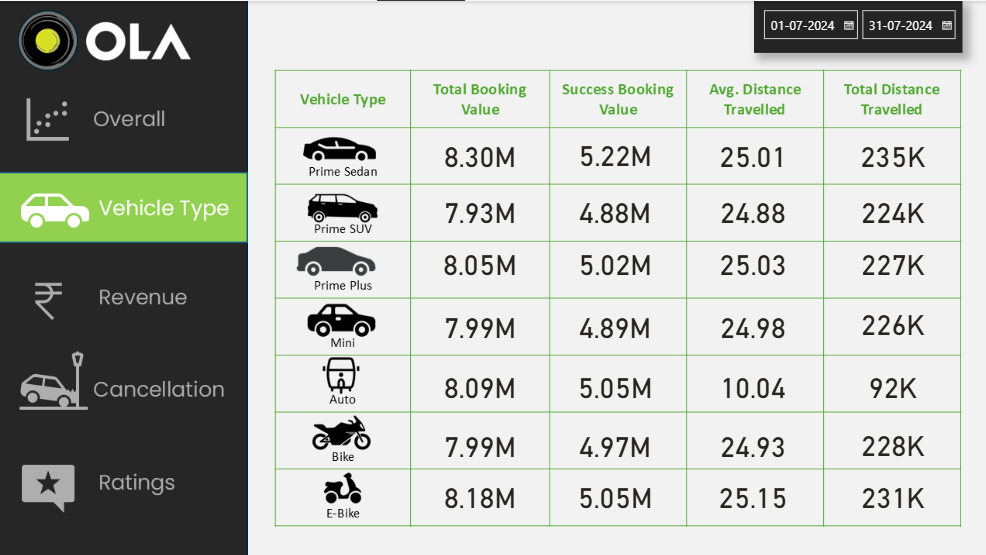

The page's visual inventory and layout, read from the dashboard file:
{"tool":"powerbi","page":{"name":"Vehicle Type","canvas":[1280,720],"ordinal":1},"visuals":[{"type":"actionButton","box":[0,337.3,324.6,93.5],"z":0},{"type":"actionButton","box":[0,449.3,324.6,93.5],"z":1000},{"type":"actionButton","box":[0,574,324.6,93.5],"z":2000},{"type":"actionButton","box":[0,104.9,324.6,93.5],"z":3000},{"type":"card","fields":{"Values":["Sum(Bookings.Booking_Value)"]},"box":[545.7,168.7,154.5,59.5],"z":4000},{"type":"card","fields":{"Values":["Sum(Bookings.Booking_Value)"]},"box":[545.9,240.2,154.5,60.5],"z":5000},{"type":"card","fields":{"Values":["Sum(Bookings.Booking_Value)"]},"box":[545.9,307.4,154.5,60.5],"z":6000},{"type":"card","fields":{"Values":["Sum(Bookings.Booking_Value)"]},"box":[545.9,388,154.5,60.5],"z":7000},{"type":"card","fields":{"Values":["Sum(Bookings.Booking_Value)"]},"box":[545.9,465.3,154.5,60.5],"z":8000},{"type":"card","fields":{"Values":["Sum(Bookings.Booking_Value)"]},"box":[545.9,542.6,154.5,60.5],"z":9000},{"type":"card","fields":{"Values":["Sum(Bookings.Booking_Value)"]},"box":[545.9,608.1,154.5,60.5],"z":10000},{"type":"card","fields":{"Values":["Sum(Bookings.Booking_Value)"]},"box":[720.6,166.3,154.5,60.5],"z":11000},{"type":"card","fields":{"Values":["Sum(Bookings.Booking_Value)"]},"box":[720.6,240.2,154.5,60.5],"z":12000},{"type":"card","fields":{"Values":["Sum(Bookings.Booking_Value)"]},"box":[720.6,307.4,154.5,60.5],"z":13000},{"type":"card","fields":{"Values":["Sum(Bookings.Booking_Value)"]},"box":[720.6,388,154.5,60.5],"z":14000},{"type":"card","fields":{"Values":["Sum(Bookings.Booking_Value)"]},"box":[720.6,465.3,154.5,60.5],"z":15000},{"type":"card","fields":{"Values":["Sum(Bookings.Booking_Value)"]},"box":[720.6,542.6,154.5,60.5],"z":16000},{"type":"card","fields":{"Values":["Sum(Bookings.Booking_Value)"]},"box":[720.6,608.1,154.5,60.5],"z":17000},{"type":"card","fields":{"Values":["Avg(Bookings.Ride_Distance)"]},"box":[898.7,168,154.5,60.5],"z":18000},{"type":"card","fields":{"Values":["Avg(Bookings.Ride_Distance)"]},"box":[898.7,240.2,154.5,60.5],"z":19000},{"type":"card","fields":{"Values":["Avg(Bookings.Ride_Distance)"]},"box":[898.7,307.4,154.5,60.5],"z":20000},{"type":"card","fields":{"Values":["Avg(Bookings.Ride_Distance)"]},"box":[898.7,388,154.5,60.5],"z":21000},{"type":"card","fields":{"Values":["Avg(Bookings.Ride_Distance)"]},"box":[898.7,465.3,154.5,60.5],"z":22000},{"type":"card","fields":{"Values":["Avg(Bookings.Ride_Distance)"]},"box":[898.7,542.6,154.5,60.5],"z":23000},{"type":"card","fields":{"Values":["Avg(Bookings.Ride_Distance)"]},"box":[898.7,608.1,154.5,60.5],"z":24000},{"type":"card","fields":{"Values":["Sum(Bookings.Ride_Distance)"]},"box":[1078.4,168,154.5,60.5],"z":25000},{"type":"card","fields":{"Values":["Sum(Bookings.Ride_Distance)"]},"box":[1078.4,240.2,154.5,60.5],"z":26000},{"type":"card","fields":{"Values":["Sum(Bookings.Ride_Distance)"]},"box":[1078.4,307.4,154.5,60.5],"z":27000},{"type":"card","fields":{"Values":["Sum(Bookings.Ride_Distance)"]},"box":[1078.4,384.7,154.5,60.5],"z":28000},{"type":"card","fields":{"Values":["Sum(Bookings.Ride_Distance)"]},"box":[1078.4,465.3,154.5,60.5],"z":29000},{"type":"card","fields":{"Values":["Sum(Bookings.Ride_Distance)"]},"box":[1078.4,542.6,154.5,57.1],"z":30000},{"type":"card","fields":{"Values":["Sum(Bookings.Ride_Distance)"]},"box":[1078.4,608.1,154.5,60.5],"z":31000},{"type":"slicer","title":"Date","fields":{"Values":["Bookings.Date"]},"box":[976.5,0,269.3,66.6],"z":32000}]}

Visuals, with their boxes on the page's 1280x720 design canvas (x1, y1, x2, y2). These are canvas units, not pixel positions in the 986x555 screenshot, which may show the page scaled, cropped or inside an application window:
actionButton: [0, 337, 325, 431]
actionButton: [0, 449, 325, 543]
actionButton: [0, 574, 325, 668]
actionButton: [0, 105, 325, 198]
card - Sum(Bookings.Booking_Value): [546, 169, 700, 228]
card - Sum(Bookings.Booking_Value): [546, 240, 700, 301]
card - Sum(Bookings.Booking_Value): [546, 307, 700, 368]
card - Sum(Bookings.Booking_Value): [546, 388, 700, 448]
card - Sum(Bookings.Booking_Value): [546, 465, 700, 526]
card - Sum(Bookings.Booking_Value): [546, 543, 700, 603]
card - Sum(Bookings.Booking_Value): [546, 608, 700, 669]
card - Sum(Bookings.Booking_Value): [721, 166, 875, 227]
card - Sum(Bookings.Booking_Value): [721, 240, 875, 301]
card - Sum(Bookings.Booking_Value): [721, 307, 875, 368]
card - Sum(Bookings.Booking_Value): [721, 388, 875, 448]
card - Sum(Bookings.Booking_Value): [721, 465, 875, 526]
card - Sum(Bookings.Booking_Value): [721, 543, 875, 603]
card - Sum(Bookings.Booking_Value): [721, 608, 875, 669]
card - Avg(Bookings.Ride_Distance): [899, 168, 1053, 228]
card - Avg(Bookings.Ride_Distance): [899, 240, 1053, 301]
card - Avg(Bookings.Ride_Distance): [899, 307, 1053, 368]
card - Avg(Bookings.Ride_Distance): [899, 388, 1053, 448]
card - Avg(Bookings.Ride_Distance): [899, 465, 1053, 526]
card - Avg(Bookings.Ride_Distance): [899, 543, 1053, 603]
card - Avg(Bookings.Ride_Distance): [899, 608, 1053, 669]
card - Sum(Bookings.Ride_Distance): [1078, 168, 1233, 228]
card - Sum(Bookings.Ride_Distance): [1078, 240, 1233, 301]
card - Sum(Bookings.Ride_Distance): [1078, 307, 1233, 368]
card - Sum(Bookings.Ride_Distance): [1078, 385, 1233, 445]
card - Sum(Bookings.Ride_Distance): [1078, 465, 1233, 526]
card - Sum(Bookings.Ride_Distance): [1078, 543, 1233, 600]
card - Sum(Bookings.Ride_Distance): [1078, 608, 1233, 669]
"Date" slicer: [976, 0, 1246, 67]
